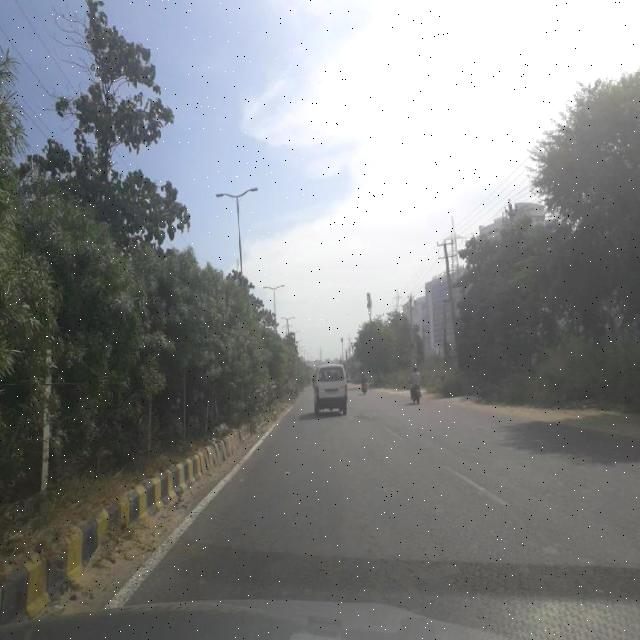D20: (159, 431, 640, 600)
